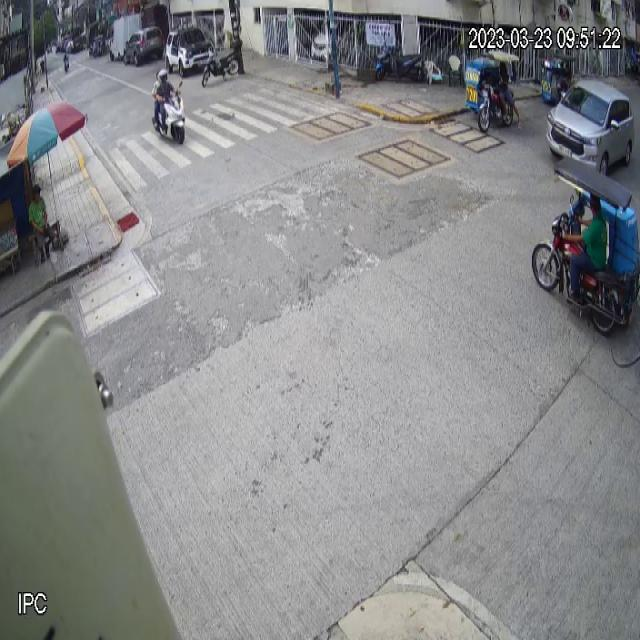Car: (545, 80, 635, 176)
Motorcycle: (154, 80, 186, 146)
Tricycle: (531, 155, 640, 332), (465, 50, 519, 133)
